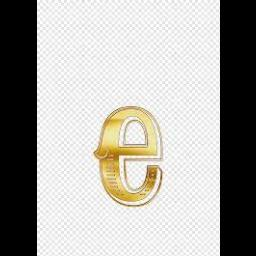e: (85, 105, 173, 211)
